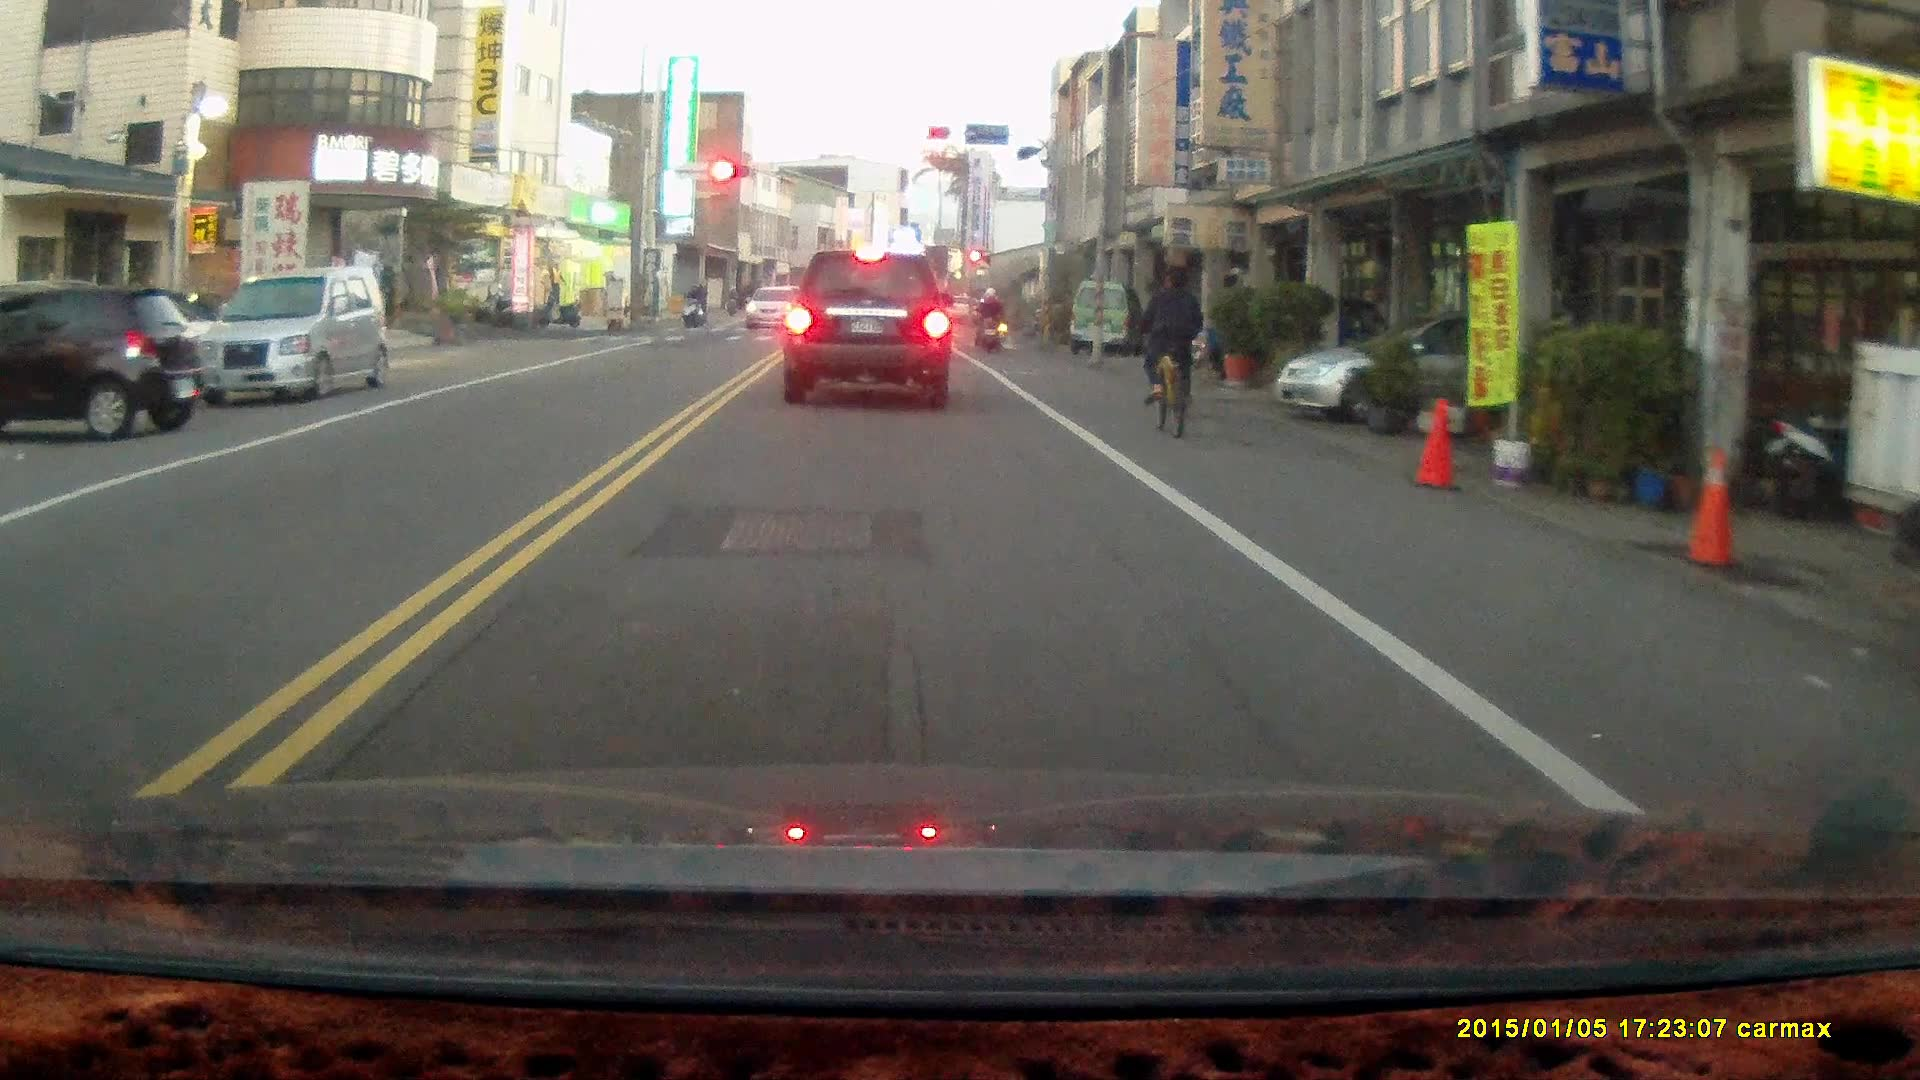rider: (1137, 264, 1203, 440), (973, 282, 1008, 353), (678, 280, 703, 330)
vehicle: (1271, 313, 1605, 426), (1, 283, 212, 444), (194, 264, 391, 407), (781, 248, 955, 409), (1066, 282, 1138, 359)
